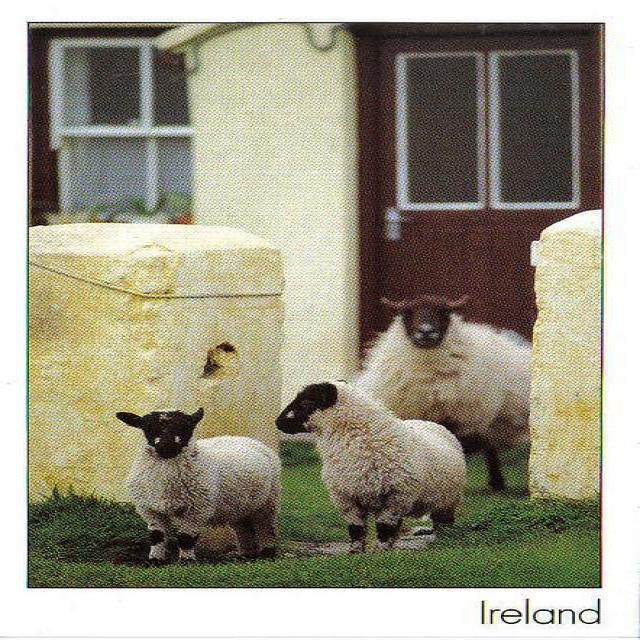Sheep: (360, 292, 536, 490), (280, 379, 468, 552), (119, 407, 282, 564)
